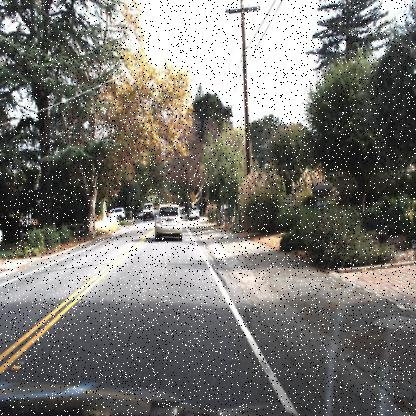car: (152, 200, 184, 242), (139, 196, 156, 221), (106, 205, 126, 223), (186, 203, 203, 221)
